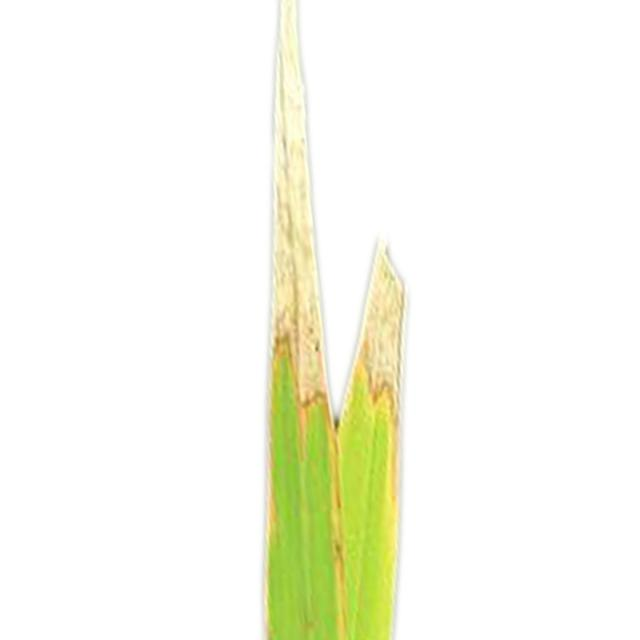Leaf scald: (227, 0, 514, 640)
